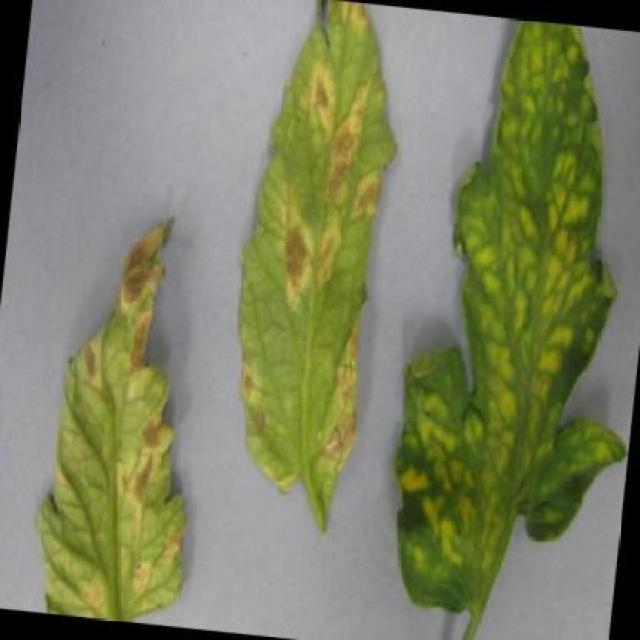Leaf Mold: (375, 13, 639, 639), (213, 0, 421, 517), (0, 189, 235, 623)
